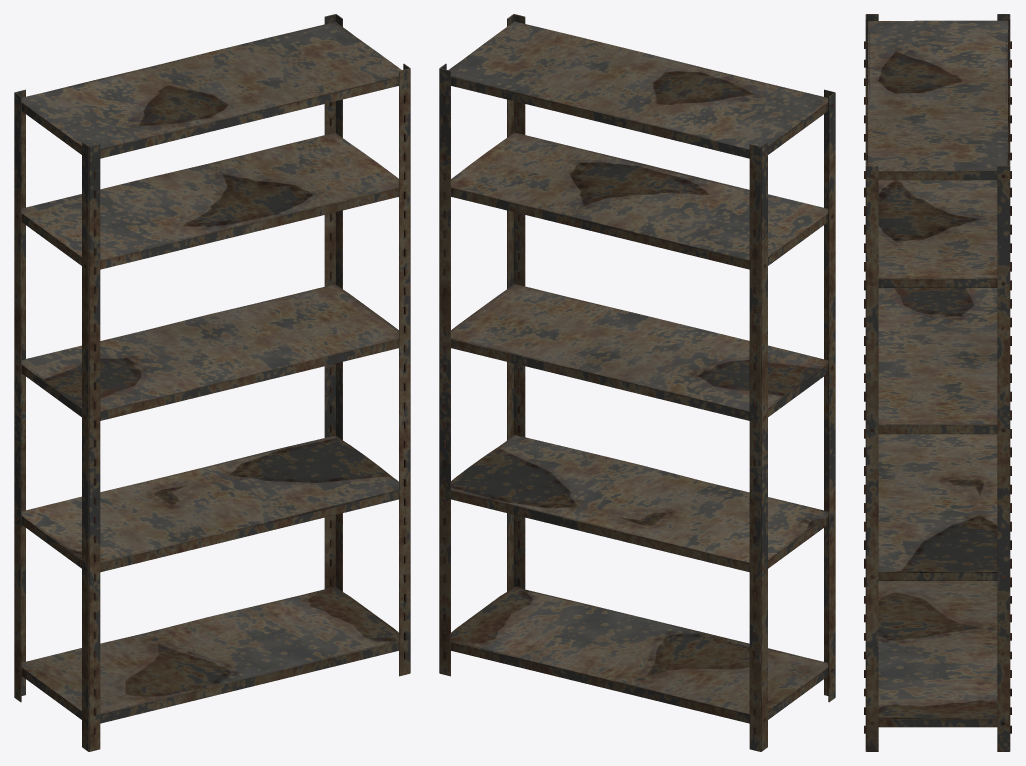
Rendered from Shelf_Metal.fbx.
The picture shows the model from 3 angles, left to right: view 1: azimuth 30°, elevation 25°; view 2: azimuth 150°, elevation 25°; view 3: azimuth 270°, elevation 25°; orthographic projection. The views are drawn at different scales.
Parts seen in each view (by area): view 1: Shelf_Metal_Mesh; view 2: Shelf_Metal_Mesh; view 3: Shelf_Metal_Mesh.
Boxes of the visible parts, bbox=[...] form: Shelf_Metal_Mesh: bbox=[14, 14, 410, 751]; Shelf_Metal_Mesh: bbox=[439, 14, 835, 751]; Shelf_Metal_Mesh: bbox=[864, 14, 1011, 751].
Size of the model in its own units: 1 by 1.8 by 0.412.
